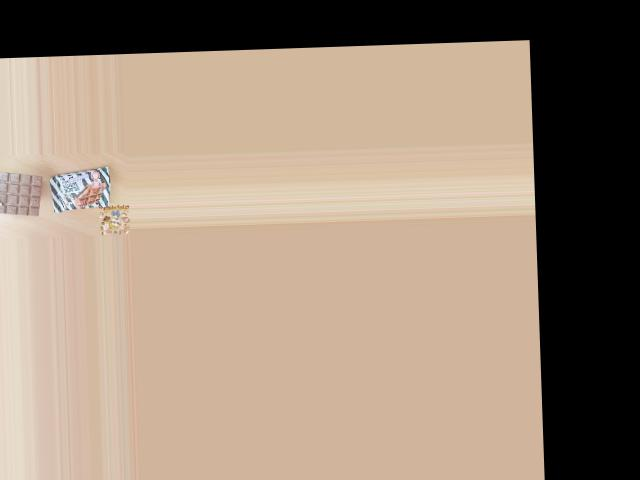chocolate: (47, 167, 113, 210)
